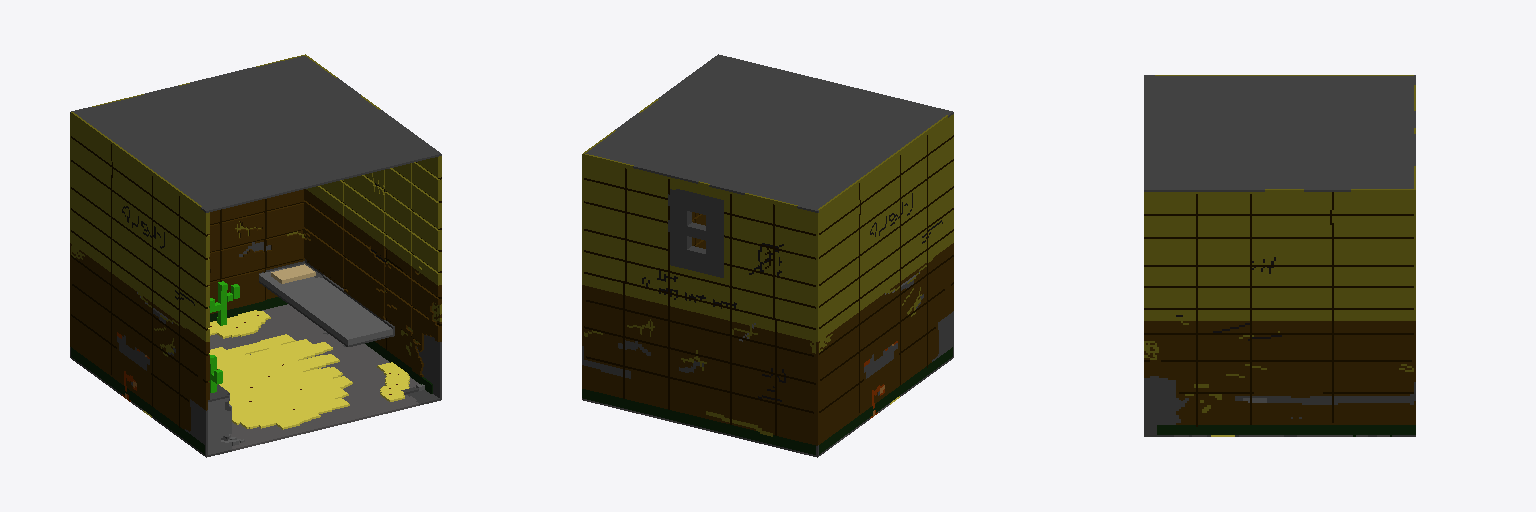
The picture shows the model from 3 angles: view 1: azimuth 30°, elevation 25°; view 2: azimuth 150°, elevation 25°; view 3: azimuth 270°, elevation 25°; orthographic projection.
Bounding box in the file's own units: 126 × 126 × 126.
1 materials, 1 textured.